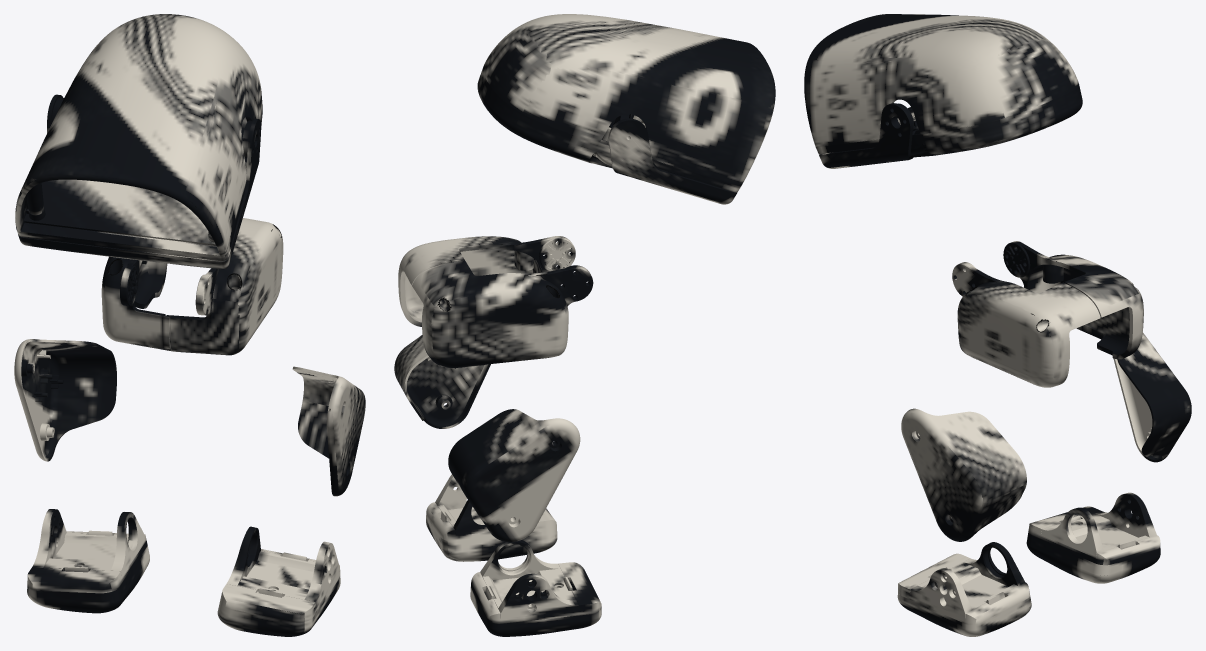
Rendered from robot-surface.glb.
The picture shows the model from 3 angles, left to right: view 1: azimuth 30°, elevation 25°; view 2: azimuth 150°, elevation 25°; view 3: azimuth 270°, elevation 25°; orthographic projection. The views are drawn at different scales.
Parts seen in each view (by area): view 1: jaw_soft__top_head_shell.stl, jaw_soft__bottom_head_shell.stl, trunk_base__left_shell.stl, upper_leg_right__upper_leg_right.stl, upper_leg_left__upper_leg_left.stl, trunk_base__right_shell.stl, ankle_left__ankle_left.stl, ankle_right__ankle_right.stl, jaw_soft__jaw.stl, ankle_left__foot_left.stl, ankle_right__foot_right.stl, ankle_right__sole_right.stl (+1 smaller); view 2: jaw_soft__top_head_shell.stl, trunk_base__right_shell.stl, upper_leg_right__upper_leg_right.stl, trunk_base__left_shell.stl, upper_leg_left__upper_leg_left.stl, ankle_right__ankle_right.stl, jaw_soft__bottom_head_shell.stl, jaw_soft__jaw.stl, ankle_right__foot_right.stl, ankle_left__sole_left.stl, ankle_right__sole_right.stl, ankle_left__ankle_left.stl (+1 smaller); view 3: jaw_soft__top_head_shell.stl, trunk_base__left_shell.stl, upper_leg_left__upper_leg_left.stl, trunk_base__right_shell.stl, upper_leg_right__upper_leg_right.stl, jaw_soft__bottom_head_shell.stl, ankle_left__ankle_left.stl, ankle_right__ankle_right.stl, jaw_soft__jaw.stl, ankle_right__sole_right.stl, ankle_left__foot_left.stl, ankle_right__foot_right.stl (+1 smaller).
Boxes of the visible parts, left/top/right/bottom form: jaw_soft__top_head_shell.stl: left=15, top=14, right=261, bottom=256; jaw_soft__bottom_head_shell.stl: left=17, top=91, right=262, bottom=261; trunk_base__left_shell.stl: left=166, top=218, right=283, bottom=355; upper_leg_right__upper_leg_right.stl: left=14, top=339, right=116, bottom=461; upper_leg_left__upper_leg_left.stl: left=292, top=366, right=365, bottom=496; trunk_base__right_shell.stl: left=101, top=256, right=171, bottom=351; ankle_left__ankle_left.stl: left=226, top=526, right=339, bottom=606; ankle_right__ankle_right.stl: left=32, top=509, right=145, bottom=575; jaw_soft__jaw.stl: left=18, top=94, right=261, bottom=269; ankle_left__foot_left.stl: left=220, top=549, right=340, bottom=622; ankle_right__foot_right.stl: left=27, top=530, right=147, bottom=593; ankle_right__sole_right.stl: left=27, top=546, right=149, bottom=613; jaw_soft__top_head_shell.stl: left=483, top=14, right=775, bottom=185; trunk_base__right_shell.stl: left=412, top=260, right=593, bottom=367; upper_leg_right__upper_leg_right.stl: left=448, top=409, right=580, bottom=542; trunk_base__left_shell.stl: left=398, top=236, right=575, bottom=326; upper_leg_left__upper_leg_left.stl: left=394, top=335, right=490, bottom=428; ankle_right__ankle_right.stl: left=480, top=540, right=578, bottom=618; jaw_soft__bottom_head_shell.stl: left=477, top=68, right=741, bottom=192; jaw_soft__jaw.stl: left=608, top=118, right=736, bottom=204; ankle_right__foot_right.stl: left=471, top=562, right=601, bottom=623; ankle_left__sole_left.stl: left=426, top=516, right=557, bottom=561; ankle_right__sole_right.stl: left=470, top=587, right=601, bottom=636; ankle_left__ankle_left.stl: left=435, top=474, right=489, bottom=535; jaw_soft__top_head_shell.stl: left=804, top=14, right=1079, bottom=146; trunk_base__left_shell.stl: left=952, top=262, right=1100, bottom=387; upper_leg_left__upper_leg_left.stl: left=901, top=408, right=1026, bottom=541; trunk_base__right_shell.stl: left=1003, top=241, right=1143, bottom=359; upper_leg_right__upper_leg_right.stl: left=1113, top=332, right=1191, bottom=462; jaw_soft__bottom_head_shell.stl: left=815, top=86, right=1082, bottom=157; ankle_left__ankle_left.stl: left=910, top=542, right=1025, bottom=618; ankle_right__ankle_right.stl: left=1041, top=492, right=1156, bottom=557; jaw_soft__jaw.stl: left=819, top=103, right=913, bottom=168; ankle_right__sole_right.stl: left=1026, top=533, right=1160, bottom=583; ankle_left__foot_left.stl: left=898, top=553, right=1029, bottom=624; ankle_right__foot_right.stl: left=1028, top=506, right=1160, bottom=565.
Bounding box in the file's own units: 0.1981 × 0.3048 × 0.197.
Materials: 1 (1 with a texture image).
